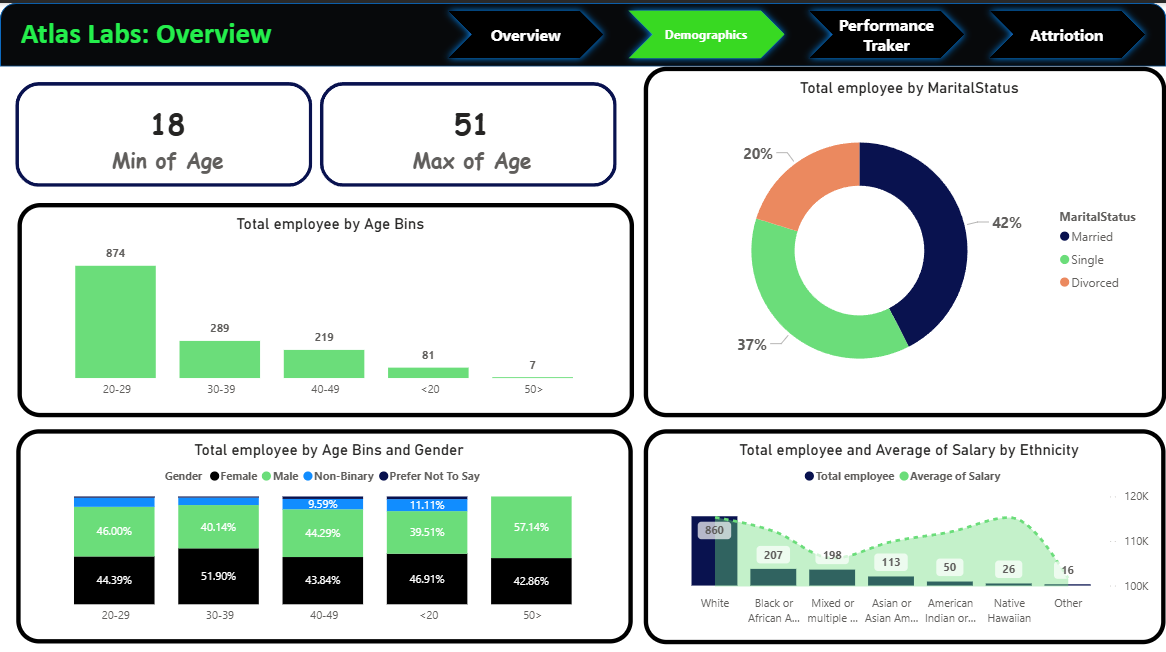

What the dashboard file says about the page in this screenshot:
{"tool":"powerbi","page":{"name":"Demographics","canvas":[1280,720],"ordinal":1},"visuals":[{"type":"shape","box":[0,0,1280.3,70],"z":0},{"type":"textbox","box":[17.8,8.2,343.1,53.5],"z":1000},{"type":"pageNavigator","box":[483,0,784.9,70],"z":2000},{"type":"cardVisual","fields":{"Data":["Min(DimEmployee.Age)","Max(DimEmployee.Age)1"]},"box":[0,69.8,695.6,149.7],"z":3000},{"type":"clusteredColumnChart","fields":{"Category":["DimEmployee.Age Bins"],"Y":["_Measures.Total employee"]},"box":[19.3,219.3,677,235.6],"z":4000},{"type":"hundredPercentStackedColumnChart","fields":{"Category":["DimEmployee.Age Bins"],"Y":["_Measures.Total employee"],"Series":["DimEmployee.Gender"]},"box":[17.8,468.1,677,235.6],"z":5000},{"type":"donutChart","fields":{"Category":["DimEmployee.MaritalStatus"],"Y":["_Measures.Total employee"]},"box":[706.7,69.6,573.3,385.2],"z":6000},{"type":"lineStackedColumnComboChart","fields":{"Category":["DimEmployee.Ethnicity"],"Y":["_Measures.Total employee"],"Y2":["Avg(DimEmployee.Salary)"]},"box":[707,468,573,236],"z":7000}]}

Visuals, with their boxes in screenshot pixels (x1, y1, x2, y2), scaled from the page's 1280x720 canvas onto the 1166x652 screenshot:
shape: BBox(0, 0, 1165, 63)
textbox: BBox(16, 7, 329, 56)
pageNavigator: BBox(440, 0, 1155, 63)
cardVisual - Min(DimEmployee.Age) x Max(DimEmployee.Age)1: BBox(0, 63, 634, 199)
clusteredColumnChart - DimEmployee.Age Bins x _Measures.Total employee: BBox(18, 199, 634, 412)
hundredPercentStackedColumnChart - DimEmployee.Age Bins x _Measures.Total employee: BBox(16, 424, 633, 637)
donutChart - DimEmployee.MaritalStatus x _Measures.Total employee: BBox(644, 63, 1165, 412)
lineStackedColumnComboChart - DimEmployee.Ethnicity x _Measures.Total employee: BBox(644, 424, 1165, 638)
